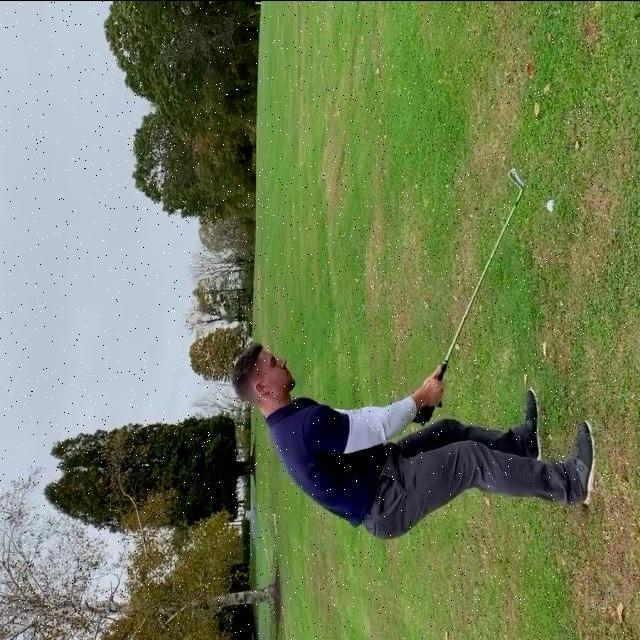ClubHandle: (410, 165, 526, 422)
ClubHead: (506, 170, 525, 188)
GolfBall: (543, 194, 559, 216)
